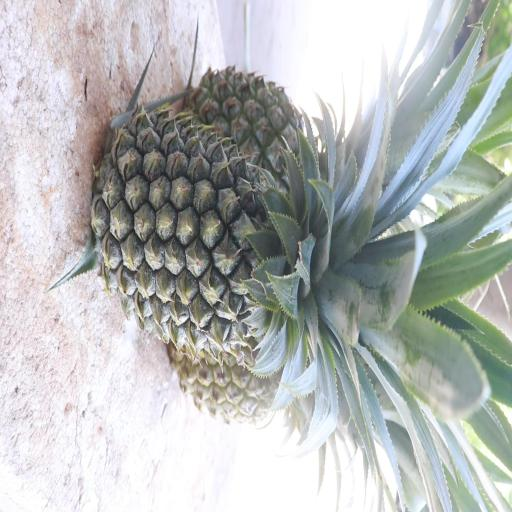------------------------------: (168, 336, 389, 455)
